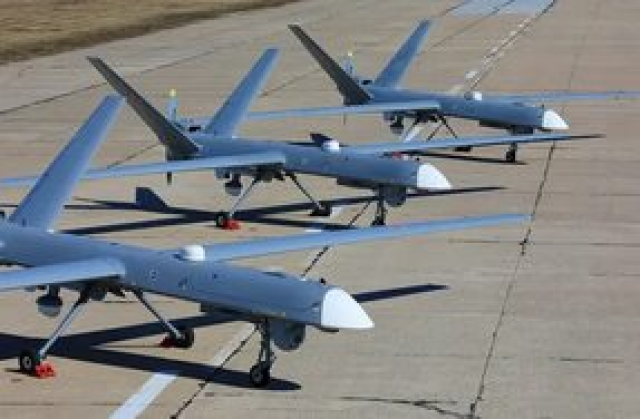military drone: (0, 93, 526, 386), (0, 48, 606, 227), (169, 20, 640, 162)
